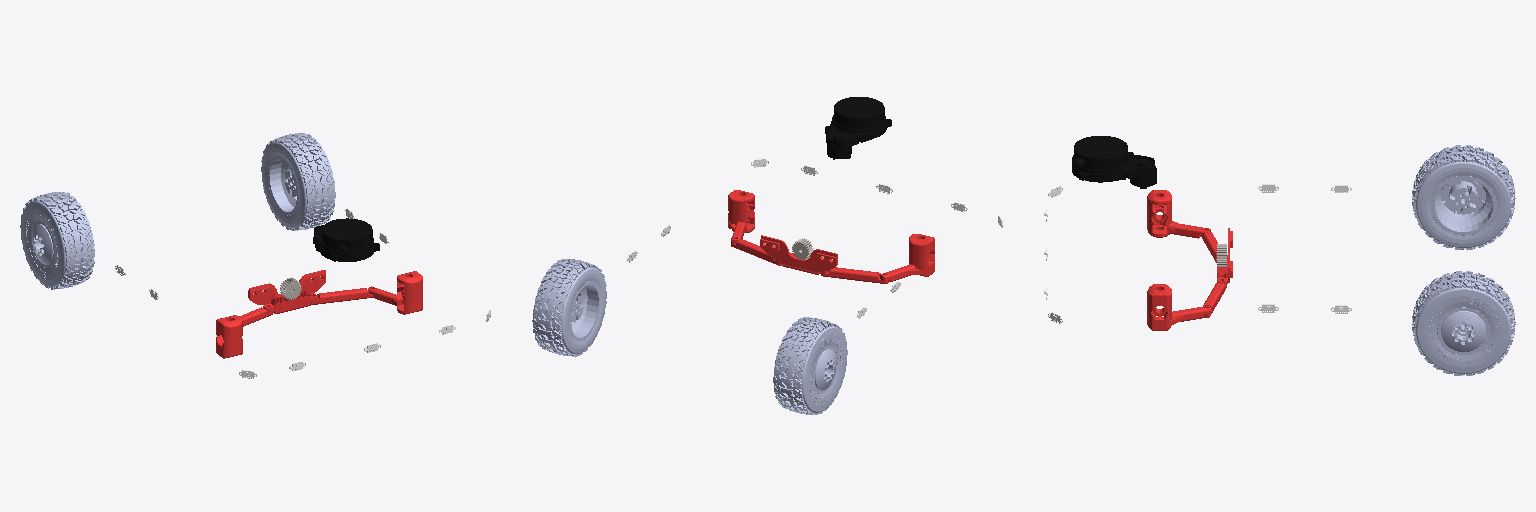
robot.urdf — robot_urdf:
<?xml version="1.0" encoding="utf-8"?>
<!-- This URDF was automatically created by SolidWorks to URDF Exporter! Originally created by [author] ([email redacted]) 
     Commit Version: 1.6.0-4-g7f85cfe  Build Version: 1.6.7995.38578
     For more information, please see http://wiki.ros.org/sw_urdf_exporter -->
<robot
  name="robot_urdf">
  <link
    name="base_link">
    <inertial>
      <origin
        xyz="9.0203E-08 0.073791 -0.019069"
        rpy="0 0 0" />
      <mass
        value="10.753" />
      <inertia
        ixx="0.019849"
        ixy="6.5381E-10"
        ixz="2.5647E-09"
        iyy="0.038526"
        iyz="5.2628E-05"
        izz="0.023738" />
    </inertial>
    <visual>
      <origin
        xyz="0 0 0"
        rpy="0 0 0" />
      <geometry>
        <mesh
          filename="package://robot_urdf/meshes/base_link.STL" />
      </geometry>
      <material
        name="">
        <color
          rgba="0.59216 0.61961 0.65098 1" />
      </material>
    </visual>
    <collision>
      <origin
        xyz="0 0 0"
        rpy="0 0 0" />
      <geometry>
        <mesh
          filename="package://robot_urdf/meshes/base_link.STL" />
      </geometry>
    </collision>
  </link>
  <link
    name="link_wheel_rear_right">
    <inertial>
      <origin
        xyz="-0.17862 0.013534 0.024673"
        rpy="0 0 0" />
      <mass
        value="2.9659" />
      <inertia
        ixx="0.0036209"
        ixy="2.0673E-07"
        ixz="5.7974E-09"
        iyy="0.0036199"
        iyz="5.941E-09"
        izz="0.0063812" />
    </inertial>
    <visual>
      <origin
        xyz="0 0 0"
        rpy="0 0 0" />
      <geometry>
        <mesh
          filename="package://robot_urdf/meshes/link_wheel_rear_right.STL" />
      </geometry>
      <material
        name="">
        <color
          rgba="0.79216 0.81961 0.93333 1" />
      </material>
    </visual>
    <collision>
      <origin
        xyz="0 0 0"
        rpy="0 0 0" />
      <geometry>
        <mesh
          filename="package://robot_urdf/meshes/link_wheel_rear_right.STL" />
      </geometry>
    </collision>
  </link>
  <joint
    name="joint_wheel_rear_right"
    type="revolute">
    <origin
      xyz="-0.1571 0.094979 -0.073292"
      rpy="1.5708 0.78473 -1.5708" />
    <parent
      link="base_link" />
    <child
      link="link_wheel_rear_right" />
    <axis
      xyz="0 0 0" />
    <limit
      lower="0"
      upper="0"
      effort="0"
      velocity="0" />
  </joint>
  <link
    name="link_wheel_rear_left">
    <inertial>
      <origin
        xyz="5.6432E-08 -0.0079572 -6.9612E-08"
        rpy="0 0 0" />
      <mass
        value="0.50768" />
      <inertia
        ixx="0.00048677"
        ixy="-6.188E-10"
        ixz="-5.6106E-08"
        iyy="0.00085979"
        iyz="7.7341E-10"
        izz="0.0004867" />
    </inertial>
    <visual>
      <origin
        xyz="0 0 0"
        rpy="0 0 0" />
      <geometry>
        <mesh
          filename="package://robot_urdf/meshes/link_wheel_rear_left.STL" />
      </geometry>
      <material
        name="">
        <color
          rgba="0.79216 0.81961 0.93333 1" />
      </material>
    </visual>
    <collision>
      <origin
        xyz="0 0 0"
        rpy="0 0 0" />
      <geometry>
        <mesh
          filename="package://robot_urdf/meshes/link_wheel_rear_left.STL" />
      </geometry>
    </collision>
  </link>
  <joint
    name="joint_wheel_rear_right"
    type="revolute">
    <origin
      xyz="0.1941 0.2118 0.0625"
      rpy="0 -1.454 -1.5708" />
    <parent
      link="base_link" />
    <child
      link="link_wheel_rear_left" />
    <axis
      xyz="0 0 0" />
    <limit
      lower="0"
      upper="0"
      effort="0"
      velocity="0" />
  </joint>
  <link
    name="link_steering_pinion">
    <inertial>
      <origin
        xyz="0.006 4.8572E-17 -5.3252E-11"
        rpy="0 0 0" />
      <mass
        value="0.0054889" />
      <inertia
        ixx="4.4352E-07"
        ixy="-1.2013E-22"
        ixz="-1.3836E-15"
        iyy="2.8763E-07"
        iyz="-5.294E-23"
        izz="2.8763E-07" />
    </inertial>
    <visual>
      <origin
        xyz="0 0 0"
        rpy="0 0 0" />
      <geometry>
        <mesh
          filename="package://robot_urdf/meshes/link_steering_pinion.STL" />
      </geometry>
      <material
        name="">
        <color
          rgba="0.77647 0.75686 0.73725 1" />
      </material>
    </visual>
    <collision>
      <origin
        xyz="0 0 0"
        rpy="0 0 0" />
      <geometry>
        <mesh
          filename="package://robot_urdf/meshes/link_steering_pinion.STL" />
      </geometry>
    </collision>
  </link>
  <joint
    name="joint_steering_pinion"
    type="prismatic">
    <origin
      xyz="0 -0.074 0.06955"
      rpy="2.3648 0 -1.5708" />
    <parent
      link="base_link" />
    <child
      link="link_steering_pinion" />
    <axis
      xyz="0 0 0" />
    <limit
      lower="-0.25"
      upper="0.25"
      effort="0"
      velocity="0" />
  </joint>
  <link
    name="link_steering_rack">
    <inertial>
      <origin
        xyz="-9.4E-07 -0.0087881 0.0039404"
        rpy="0 0 0" />
      <mass
        value="0.16855" />
      <inertia
        ixx="2.0872E-05"
        ixy="1.0847E-09"
        ixz="-4.9012E-09"
        iyy="0.00012304"
        iyz="5.394E-06"
        izz="0.00013502" />
    </inertial>
    <visual>
      <origin
        xyz="0 0 0"
        rpy="0 0 0" />
      <geometry>
        <mesh
          filename="package://robot_urdf/meshes/link_steering_rack.STL" />
      </geometry>
      <material
        name="">
        <color
          rgba="0.96863 0.25882 0.25882 1" />
      </material>
    </visual>
    <collision>
      <origin
        xyz="0 0 0"
        rpy="0 0 0" />
      <geometry>
        <mesh
          filename="package://robot_urdf/meshes/link_steering_rack.STL" />
      </geometry>
    </collision>
  </link>
  <joint
    name="joint_steering_rack"
    type="floating">
    <origin
      xyz="0.006 -0.016367 0.016653"
      rpy="1.5708 0.77675 -1.5708" />
    <parent
      link="link_steering_pinion" />
    <child
      link="link_steering_rack" />
    <axis
      xyz="0 0 0" />
  </joint>
  <link
    name="link_steering_rods">
    <inertial>
      <origin
        xyz="0.060065 0.0095269 0.059552"
        rpy="0 0 0" />
      <mass
        value="0.633" />
      <inertia
        ixx="0.00024891"
        ixy="9.7727E-06"
        ixz="3.6482E-06"
        iyy="0.00026531"
        iyz="-4.0001E-05"
        izz="0.00023486" />
    </inertial>
    <visual>
      <origin
        xyz="0 0 0"
        rpy="0 0 0" />
      <geometry>
        <mesh
          filename="package://robot_urdf/meshes/link_steering_rods.STL" />
      </geometry>
      <material
        name="">
        <color
          rgba="0.96863 0.25882 0.25882 1" />
      </material>
    </visual>
    <collision>
      <origin
        xyz="0 0 0"
        rpy="0 0 0" />
      <geometry>
        <mesh
          filename="package://robot_urdf/meshes/link_steering_rods.STL" />
      </geometry>
    </collision>
  </link>
  <joint
    name="joint_steering_rods"
    type="floating">
    <origin
      xyz="-0.072482 0 -0.0094931"
      rpy="3.1416 -0.23961 0" />
    <parent
      link="link_steering_rack" />
    <child
      link="link_steering_rods" />
    <axis
      xyz="0 0 0" />
  </joint>
  <link
    name="link_lidar">
    <inertial>
      <origin
        xyz="-0.012223 2.6945E-06 -0.0080115"
        rpy="0 0 0" />
      <mass
        value="0.086273" />
      <inertia
        ixx="3.2361E-05"
        ixy="-9.951E-08"
        ixz="2.8041E-06"
        iyy="4.3879E-05"
        iyz="3.5039E-08"
        izz="6.1441E-05" />
    </inertial>
    <visual>
      <origin
        xyz="0 0 0"
        rpy="0 0 0" />
      <geometry>
        <mesh
          filename="package://robot_urdf/meshes/link_lidar.STL" />
      </geometry>
      <material
        name="">
        <color
          rgba="0.10196 0.10196 0.10196 1" />
      </material>
    </visual>
    <collision>
      <origin
        xyz="0 0 0"
        rpy="0 0 0" />
      <geometry>
        <mesh
          filename="package://robot_urdf/meshes/link_lidar.STL" />
      </geometry>
    </collision>
  </link>
  <joint
    name="joint_lidar"
    type="fixed">
    <origin
      xyz="0 -0.226 0.18304"
      rpy="3.1416 0 -1.5708" />
    <parent
      link="base_link" />
    <child
      link="link_lidar" />
    <axis
      xyz="0 0 0" />
  </joint>
  <link
    name="link_depth_camera">
    <inertial>
      <origin
        xyz="-0.00069728 -4.5196E-06 -0.01017"
        rpy="0 0 0" />
      <mass
        value="0.24743" />
      <inertia
        ixx="1.5937E-05"
        ixy="-1.7793E-08"
        ixz="-2.0407E-06"
        iyy="0.00013973"
        iyz="-1.3963E-08"
        izz="0.00014828" />
    </inertial>
    <visual>
      <origin
        xyz="0 0 0"
        rpy="0 0 0" />
      <geometry>
        <mesh
          filename="package://robot_urdf/meshes/link_depth_camera.STL" />
      </geometry>
      <material
        name="">
        <color
          rgba="0.75294 0.75294 0.75294 1" />
      </material>
    </visual>
    <collision>
      <origin
        xyz="0 0 0"
        rpy="0 0 0" />
      <geometry>
        <mesh
          filename="package://robot_urdf/meshes/link_depth_camera.STL" />
      </geometry>
    </collision>
  </link>
  <joint
    name="joint_depth_camera"
    type="fixed">
    <origin
      xyz="-0.00073135 -0.26096 0.16"
      rpy="1.5708 0 0" />
    <parent
      link="base_link" />
    <child
      link="link_depth_camera" />
    <axis
      xyz="0 0 0" />
  </joint>
  <link
    name="link_laser">
    <inertial>
      <origin
        xyz="0 0 0"
        rpy="0 0 0" />
      <mass
        value="0" />
      <inertia
        ixx="0"
        ixy="0"
        ixz="0"
        iyy="0"
        iyz="0"
        izz="0" />
    </inertial>
    <visual>
      <origin
        xyz="0 0 0"
        rpy="0 0 0" />
      <geometry>
        <mesh
          filename="package://robot_urdf/meshes/link_laser.STL" />
      </geometry>
      <material
        name="">
        <color
          rgba="1 1 1 1" />
      </material>
    </visual>
    <collision>
      <origin
        xyz="0 0 0"
        rpy="0 0 0" />
      <geometry>
        <mesh
          filename="package://robot_urdf/meshes/link_laser.STL" />
      </geometry>
    </collision>
  </link>
  <joint
    name="joint_laser"
    type="fixed">
    <origin
      xyz="0.17095 0.064159 0.077571"
      rpy="-3.1416 0 1.5708" />
    <parent
      link="base_link" />
    <child
      link="link_laser" />
    <axis
      xyz="0 0 0" />
  </joint>
</robot>

--- Facts derived from the render (not from the file) ---
Views: 3 orthographic renders of the robot side by side, from view 1: azimuth 30°, elevation 25°; view 2: azimuth 150°, elevation 25°; view 3: azimuth 270°, elevation 25°.
Robot: robot_urdf — 9 links, 8 joints (2 revolute, 1 prismatic, 3 fixed, 2 floating); root link base_link; default pose: all joints at 0.
Visible links, largest first — view 1: link_wheel_rear_left, link_wheel_rear_right, link_steering_rods, link_lidar, link_steering_rack, link_laser; view 2: link_wheel_rear_right, link_wheel_rear_left, link_steering_rods, link_lidar, link_steering_rack, link_laser; view 3: link_wheel_rear_left, link_wheel_rear_right, link_steering_rods, link_lidar, link_laser.
Boxes of the visible links, x1,y1,x2,y2 form: link_wheel_rear_left: (261,133,335,230); link_wheel_rear_right: (20,192,94,289); link_steering_rods: (216,271,422,358); link_lidar: (313,218,379,261); link_steering_rack: (248,270,325,313); link_laser: (115,208,490,378); link_wheel_rear_right: (773,317,847,414); link_wheel_rear_left: (532,259,606,356); link_steering_rods: (728,190,934,283); link_lidar: (825,97,891,159); link_steering_rack: (760,235,837,274); link_laser: (627,159,1003,318); link_wheel_rear_left: (1412,271,1515,375); link_wheel_rear_right: (1412,145,1515,249); link_steering_rods: (1147,190,1226,330); link_lidar: (1072,136,1156,188); link_laser: (1044,184,1351,323).
Size in the robot's own frame: 0.4187 by 0.5684 by 0.214 metres.
7 mesh visuals loaded from 9 distinct referenced files (7 binary STL); not drawn: 2 (reference not matched to a file when rendering).
